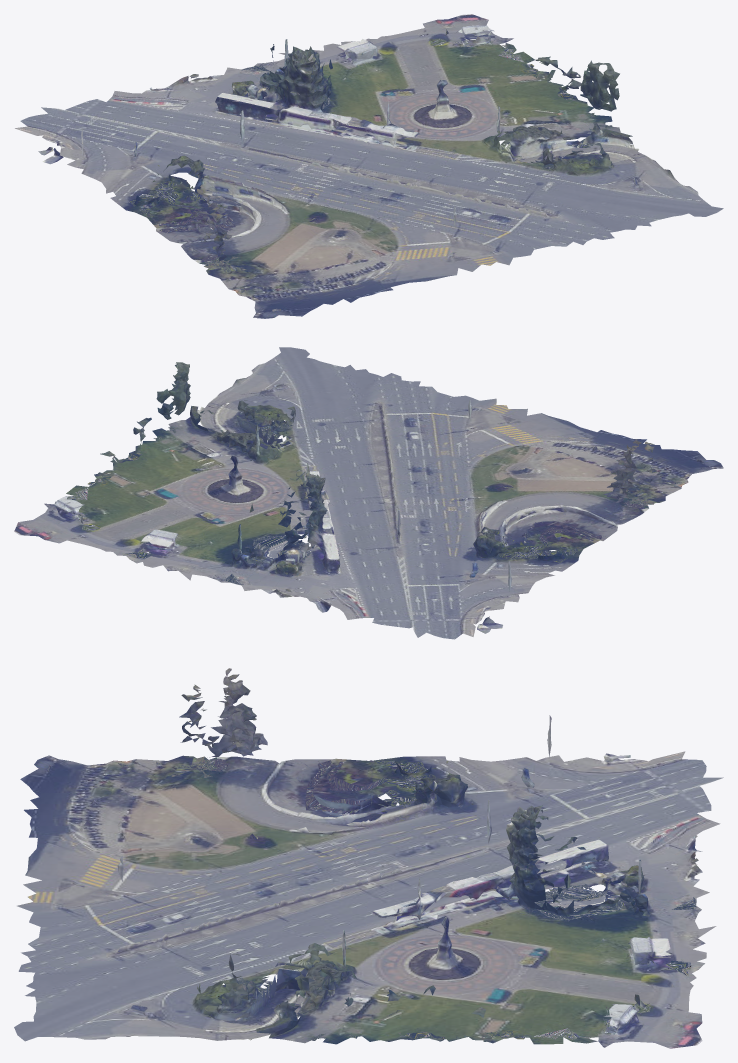
3 renders of one model, top to bottom at view 1: azimuth 30°, elevation 25°; view 2: azimuth 150°, elevation 25°; view 3: azimuth 270°, elevation 25°, orthographic. The views are drawn at different scales.
Bounding box in the file's own units: 109 × 18.95 × 109.
Materials: 1 (1 with a texture image).
